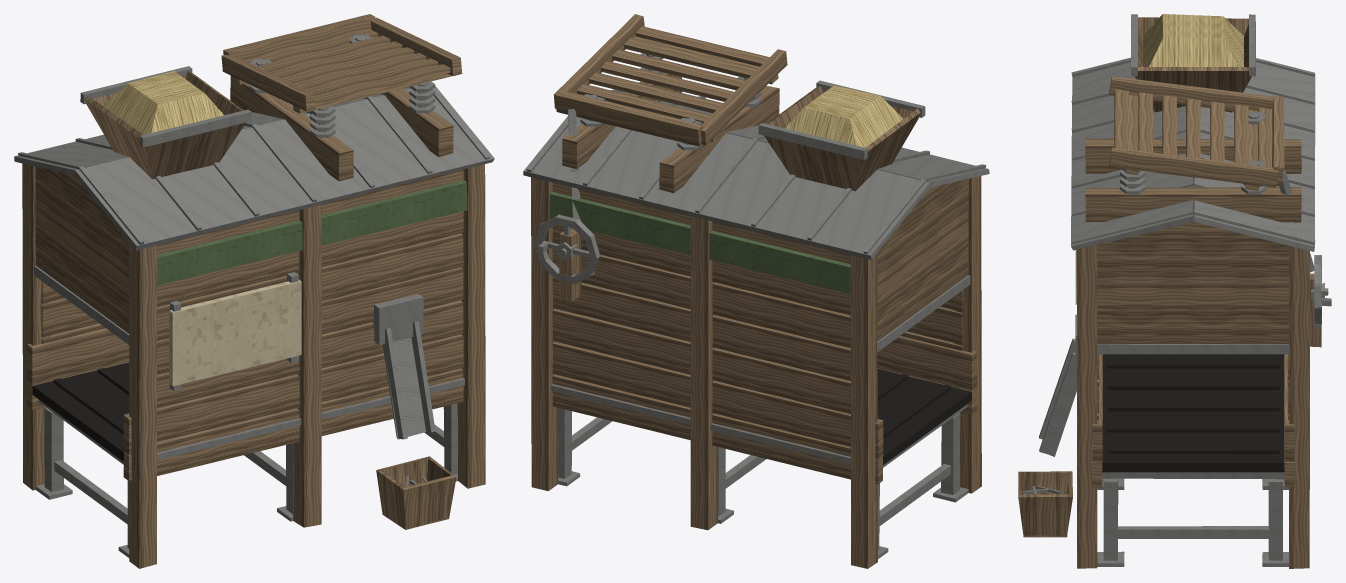
File: shaker_table.glb
The picture shows the model from 3 angles, left to right: view 1: azimuth 30°, elevation 25°; view 2: azimuth 150°, elevation 25°; view 3: azimuth 270°, elevation 25°; orthographic projection. The views are drawn at different scales.
Parts seen in each view (by area): view 1: ShakerTable, Shaker, Sign, Belt; view 2: ShakerTable, Shaker, Belt, Crank; view 3: ShakerTable, Belt, Shaker, Roller2, Crank.
Boxes of the visible parts, bbox=[...] form: ShakerTable: bbox=[14, 34, 494, 568]; Shaker: bbox=[221, 14, 462, 113]; Sign: bbox=[169, 279, 301, 386]; Belt: bbox=[32, 362, 129, 461]; ShakerTable: bbox=[523, 53, 989, 568]; Shaker: bbox=[553, 14, 787, 146]; Belt: bbox=[877, 369, 971, 464]; Crank: bbox=[534, 214, 600, 284]; ShakerTable: bbox=[1018, 14, 1328, 568]; Belt: bbox=[1102, 354, 1284, 472]; Shaker: bbox=[1109, 76, 1284, 190]; Roller2: bbox=[1102, 472, 1284, 479]; Crank: bbox=[1311, 255, 1331, 328].
Size of the model in its own units: 3.42 by 3.82 by 2.61.
Materials: 6 (5 with a texture image).
